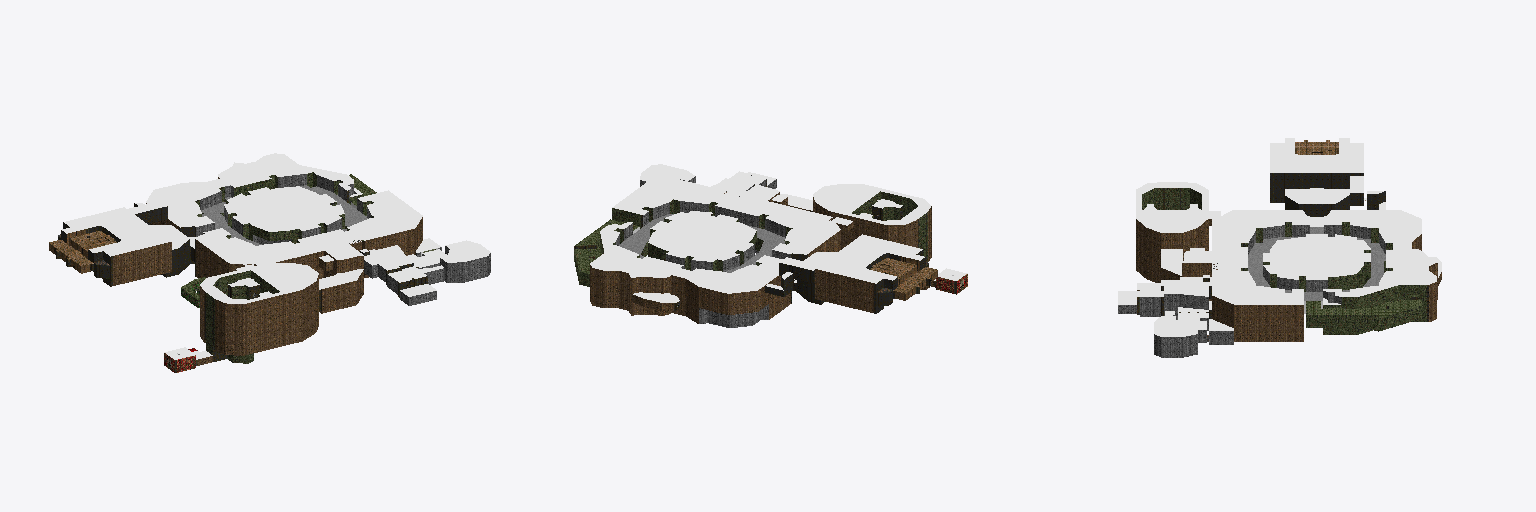
3 views of the same model, side by side, from view 1: azimuth 30°, elevation 25°; view 2: azimuth 150°, elevation 25°; view 3: azimuth 270°, elevation 25° (orthographic).
Parts seen in each view (by area): view 1: MAP11; view 2: MAP11; view 3: MAP11.
Boxes of the visible parts, x1,y1,x2,y2 form: MAP11: [49, 153, 490, 372]; MAP11: [574, 164, 967, 327]; MAP11: [1118, 138, 1441, 357].
Bounding box in the file's own units: 3584 × 776 × 2864.
59 materials, 40 textured.